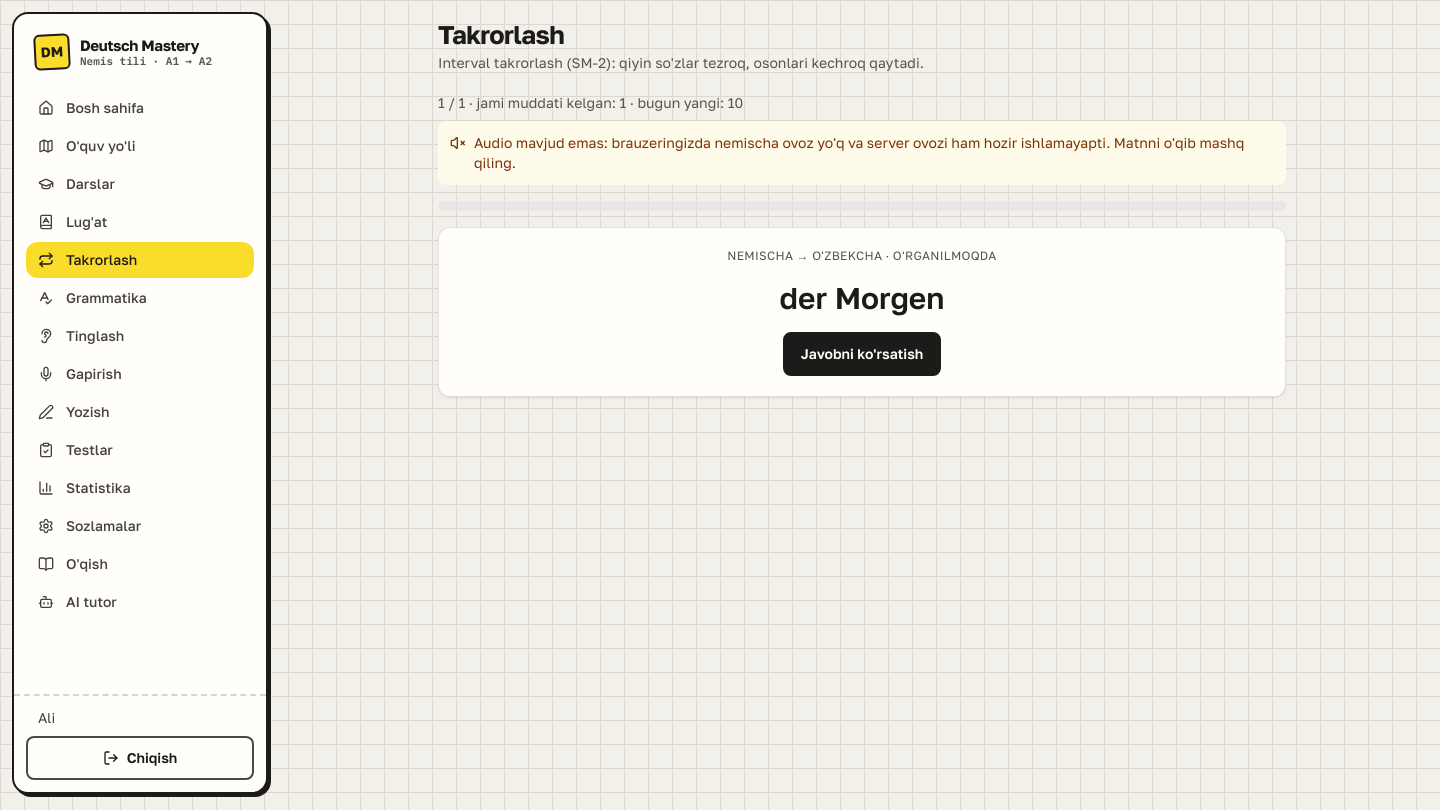
it: review session › reveals the card and sends quality 4 for "Yaxshi", then finishes
This screenshot has width=1440, height=810.
Expected: the text "der Morgen" is shown, x1=780 y1=280 x2=944 y2=316
Expected: the button "Yaxshi" is not shown
Click the button "Javobni ko'rsatish" at (862, 354), box x1=783 y1=332 x2=941 y2=376
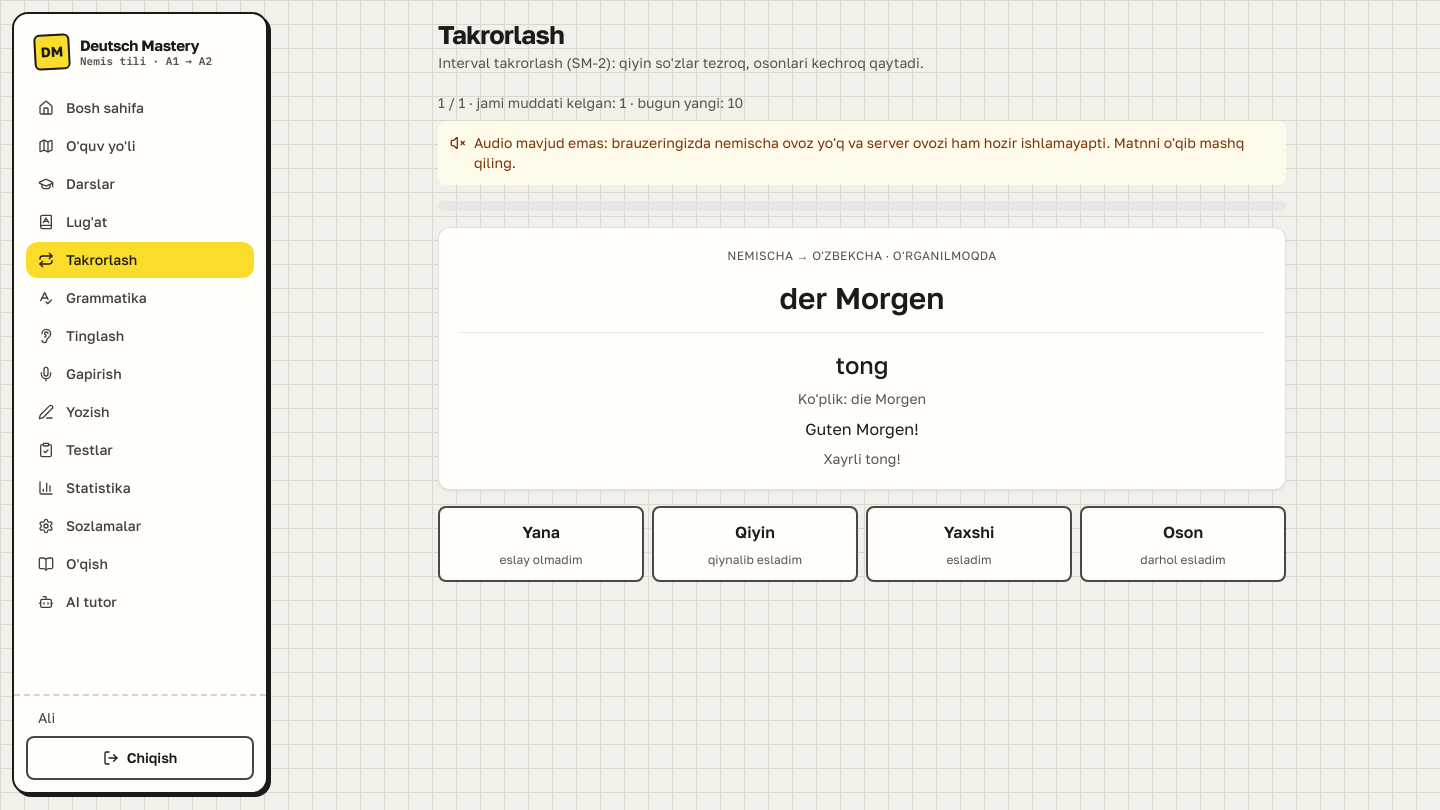
Expected: the text "tong" is shown, x1=835 y1=349 x2=889 y2=381
Click the button "Yaxshi esladim" at (969, 544), box x1=866 y1=506 x2=1072 y2=582
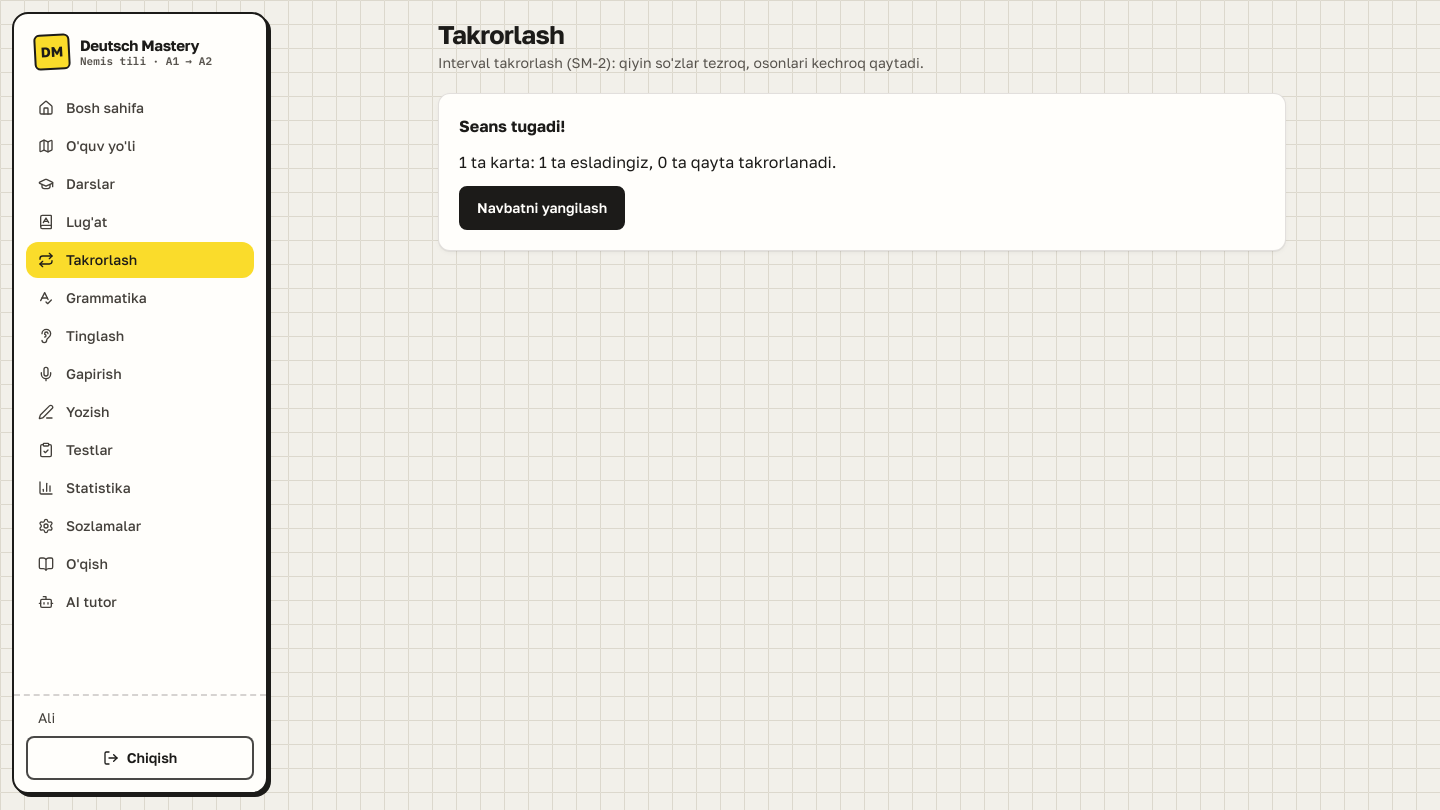
Expected: the heading "Seans tugadi!" is shown, x1=459 y1=116 x2=566 y2=136
